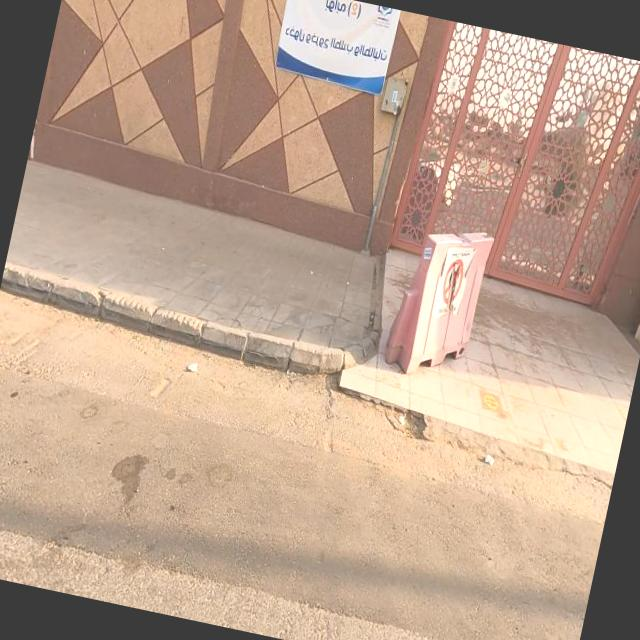debris: (401, 206, 496, 380)
